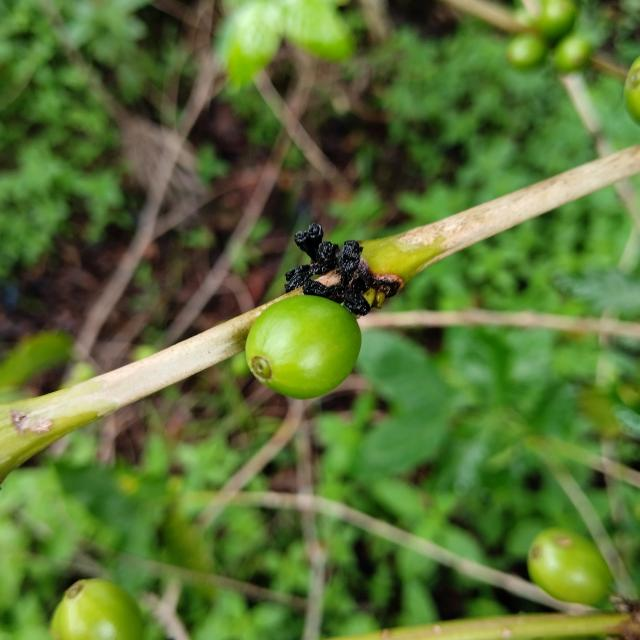green: (245, 295, 361, 399), (528, 529, 612, 605), (50, 580, 143, 640)
